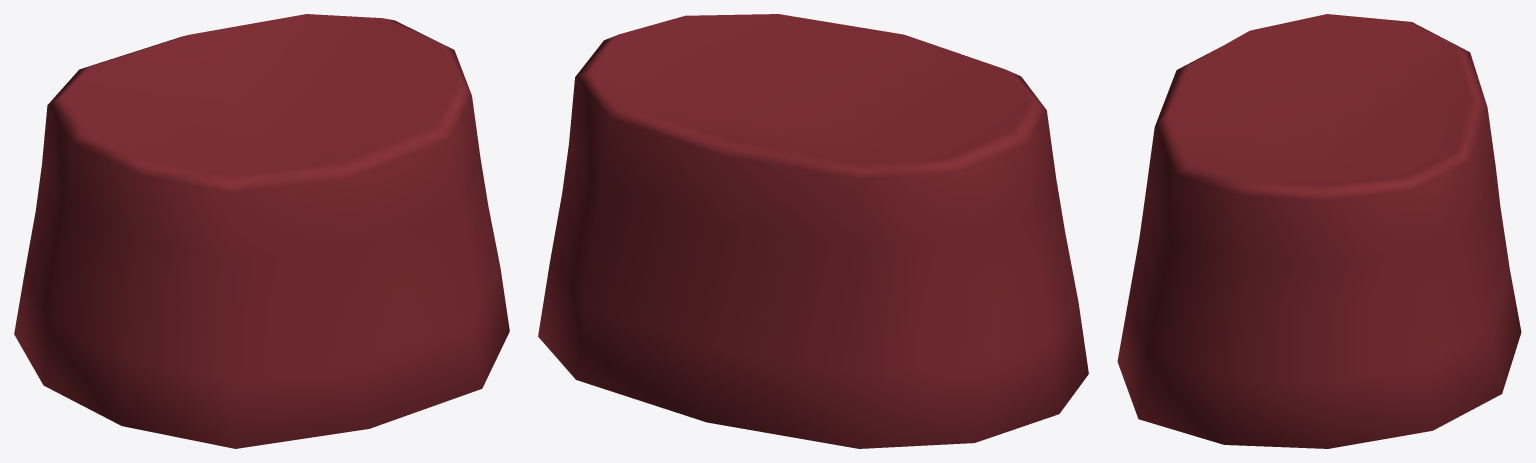
File: Legs_6.fbx
3 renders of one model, left to right at view 1: azimuth 30°, elevation 25°; view 2: azimuth 150°, elevation 25°; view 3: azimuth 270°, elevation 25°, orthographic. The views are drawn at different scales.
Parts seen in each view (by area): view 1: Legs_6; view 2: Legs_6; view 3: Legs_6.
Boxes of the visible parts, box(x1,y1,x2,y2) form: Legs_6: box(14, 14, 509, 448); Legs_6: box(538, 14, 1088, 448); Legs_6: box(1117, 14, 1521, 448).
Size of the model in its own units: 44.44 by 25.55 by 35.63.
